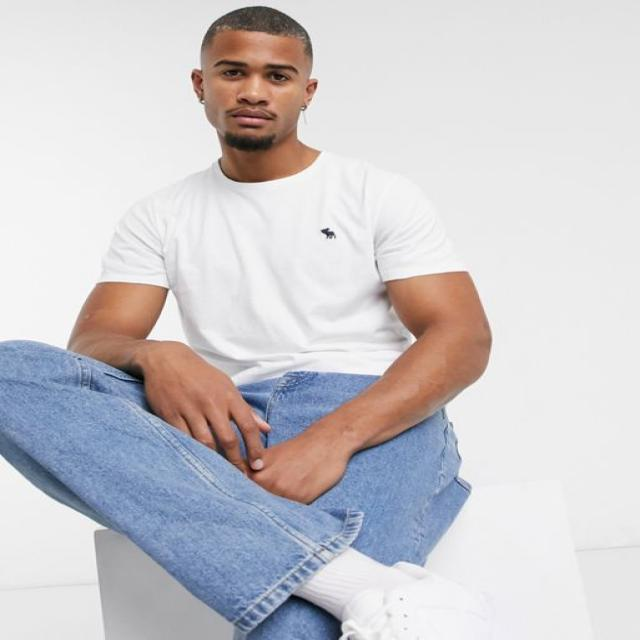tshirt: (92, 147, 470, 387)
